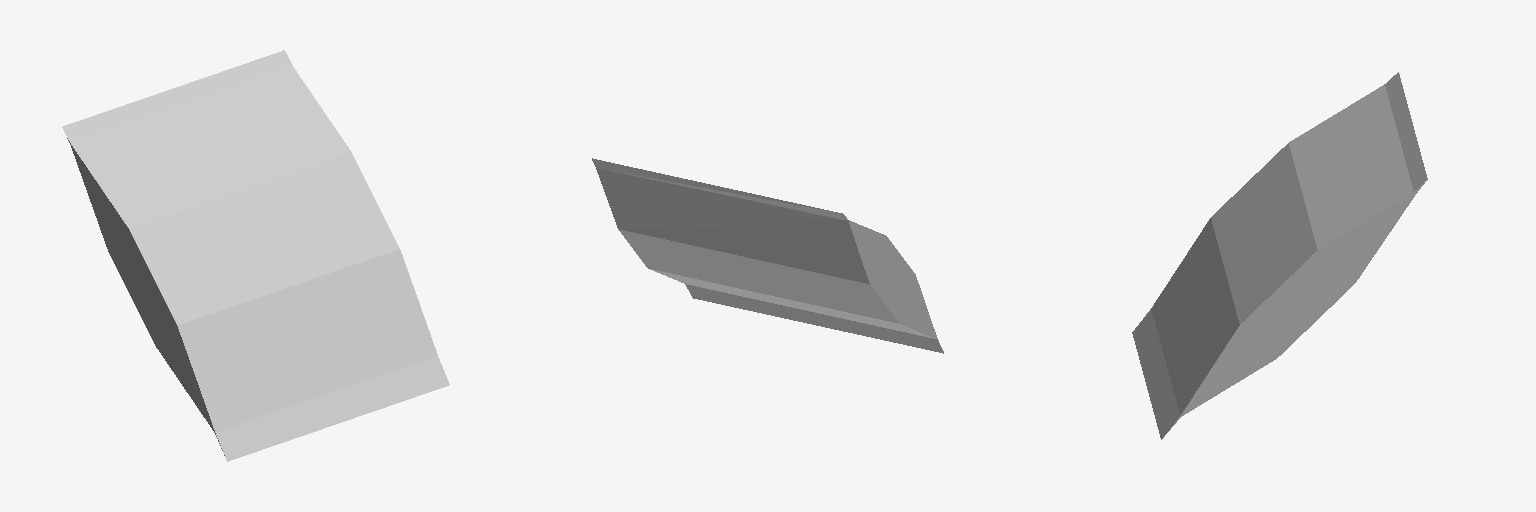
The model's file is Dre.obj.
3 views of the same model, side by side, from view 1: azimuth 30°, elevation 25°; view 2: azimuth 150°, elevation 25°; view 3: azimuth 270°, elevation 25° (orthographic).
Visible parts, largest first — view 1: pCube3; view 2: pCube3; view 3: pCube3.
Boxes of the visible parts, <box> form: pCube3: <box>62,50,449,461</box>; pCube3: <box>592,158,943,353</box>; pCube3: <box>1132,72,1427,439</box>.
Size of the model in its own units: 1.21 by 1.09 by 1.15.